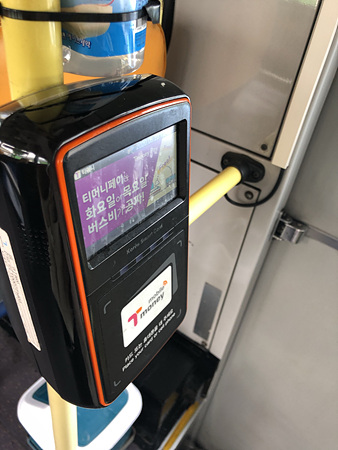terminal: (4, 75, 185, 399)
